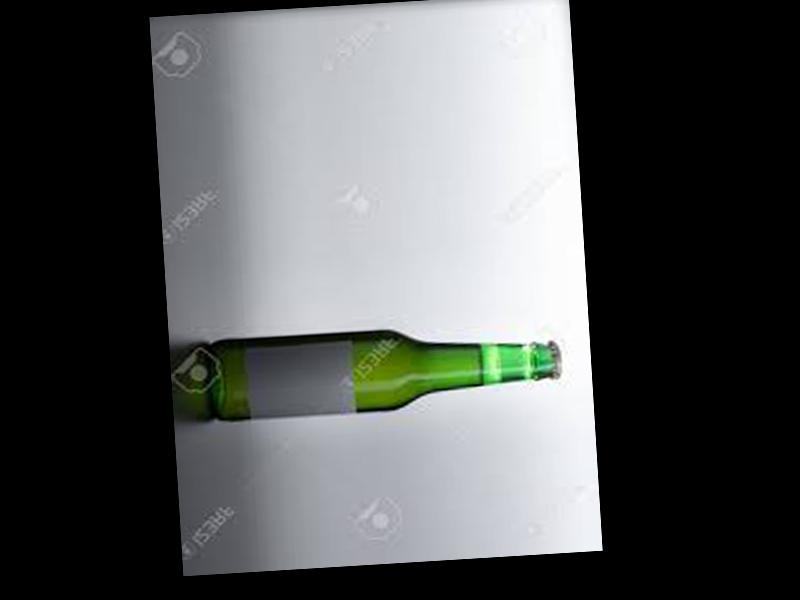Beer: (207, 319, 563, 423)
